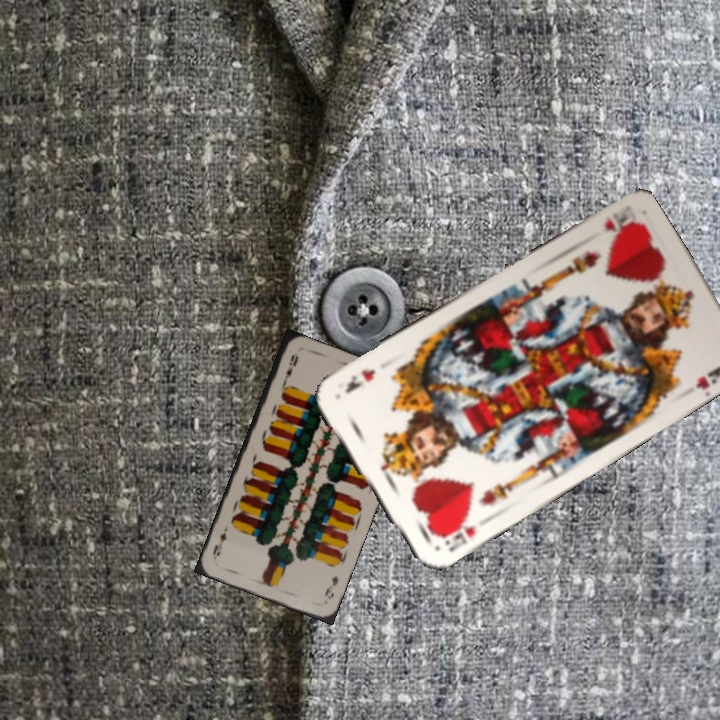E9: (279, 349, 301, 387), (321, 571, 341, 602)
HK: (433, 515, 479, 555), (600, 207, 634, 234)
